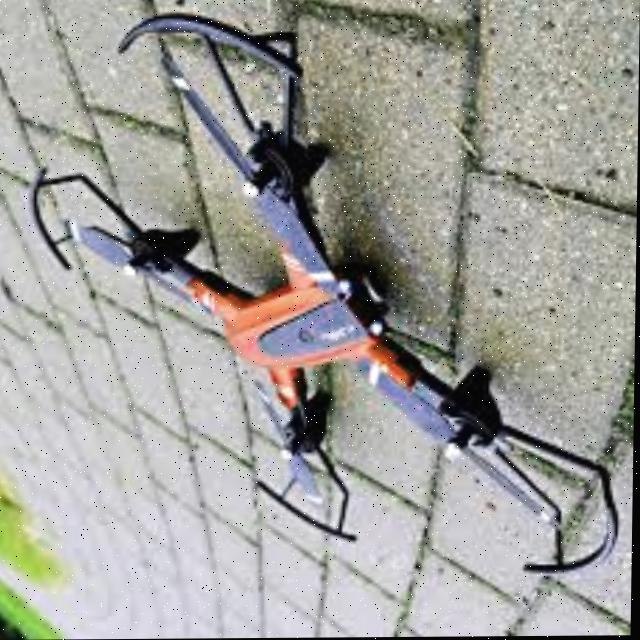drone: (29, 0, 639, 603)
